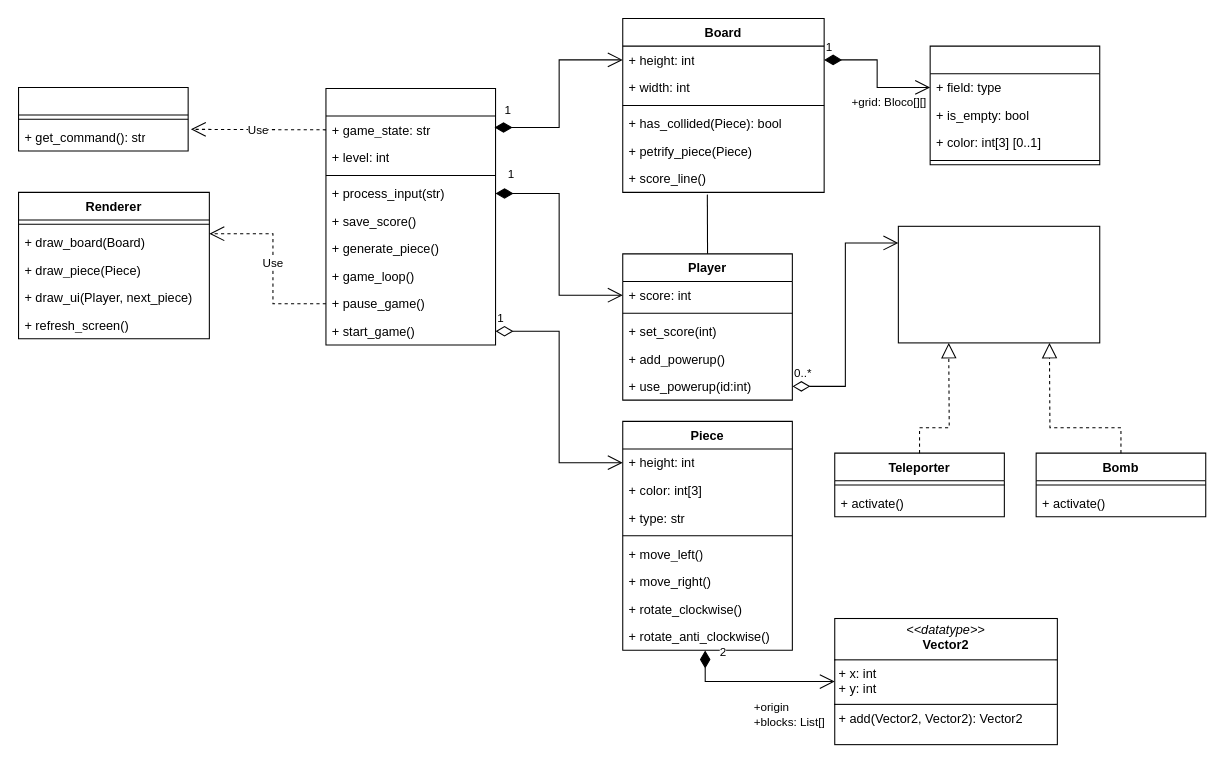
Image size: 1224x763. Some labels were removed from this diagram. The box of each missing label's shape, as (x1, y1, x2, y2) in pixels:
<<Abstract>> PowerUps + id: int + name: str + activate(): (897, 225, 1100, 343)
Bloco: (929, 45, 1100, 165)
GameManager: (325, 87, 496, 345)
InputHandler: (17, 86, 188, 151)
